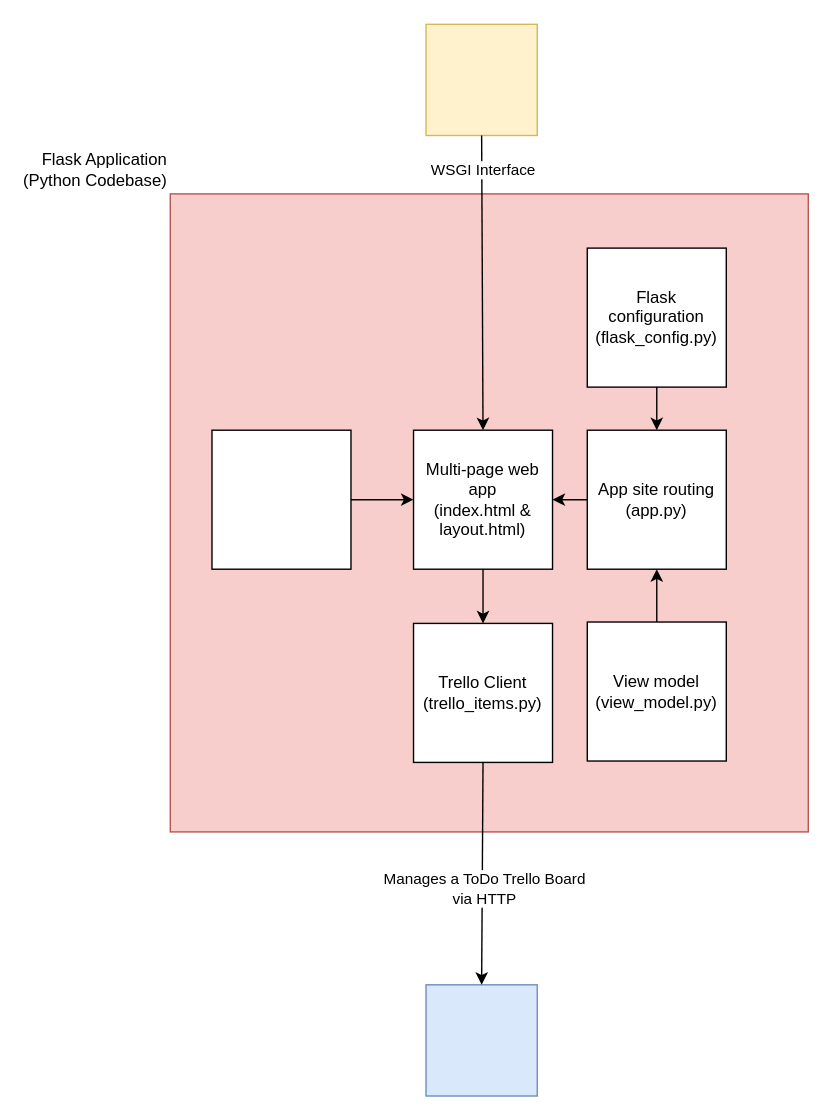
The diagram is 833 pixels wide and 1120 high, and some of its shapes have lost their labels. Here are the shapes that lost their labels. From the top down, the centre of each, then its label:
At (481,79): "Gunicorn Web Server".
At (281,499): "Environment variables (.env)".
At (481,1039): "Trello APIs".
